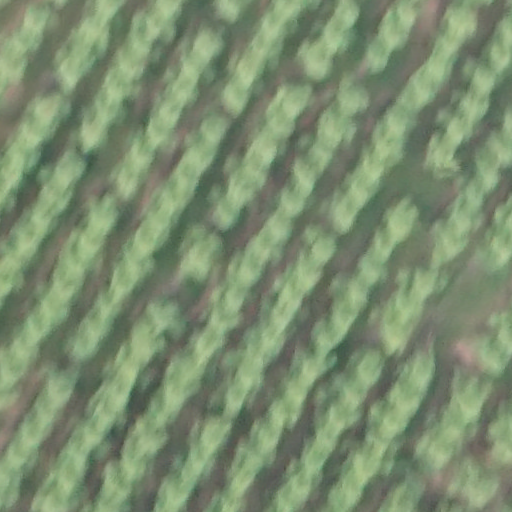eucalipto: (174, 232, 219, 278), (27, 93, 71, 137), (335, 278, 375, 320), (248, 420, 288, 462), (382, 197, 420, 241), (414, 435, 455, 475), (398, 263, 442, 300), (144, 301, 185, 340), (317, 108, 356, 149), (289, 49, 333, 85), (61, 232, 95, 278), (129, 323, 168, 363), (423, 139, 464, 177), (386, 292, 427, 330), (375, 13, 412, 55), (358, 428, 402, 463), (263, 398, 301, 438), (229, 442, 267, 482), (471, 344, 512, 381), (452, 382, 490, 421), (389, 376, 426, 416), (53, 46, 89, 87), (112, 40, 148, 80), (245, 326, 290, 358), (116, 444, 154, 481), (440, 3, 478, 40), (375, 313, 413, 350), (368, 124, 407, 160), (347, 349, 383, 388), (192, 27, 227, 67), (143, 391, 183, 426), (25, 396, 62, 433), (131, 418, 170, 453), (345, 448, 383, 483), (401, 353, 435, 392), (192, 417, 232, 450), (382, 104, 418, 140), (227, 356, 266, 389), (126, 25, 157, 66), (210, 285, 247, 319), (452, 183, 489, 217), (308, 318, 341, 356), (177, 45, 209, 84), (226, 169, 265, 201), (469, 155, 504, 190), (165, 73, 201, 107), (274, 84, 311, 117), (409, 67, 442, 104), (323, 402, 360, 435), (301, 135, 330, 176), (490, 407, 512, 461), (41, 179, 73, 216), (274, 483, 314, 512), (78, 118, 110, 154), (323, 483, 369, 508), (49, 264, 80, 301), (243, 140, 280, 171), (93, 91, 127, 124), (105, 66, 137, 101), (89, 198, 120, 234), (378, 404, 414, 435), (309, 27, 349, 54), (271, 185, 307, 215), (327, 197, 357, 233), (207, 1, 244, 30), (2, 440, 39, 469), (14, 418, 51, 447), (457, 91, 490, 123), (54, 152, 88, 183), (125, 140, 159, 171), (485, 314, 512, 353), (111, 163, 139, 200), (377, 487, 418, 512), (143, 12, 175, 44), (334, 380, 366, 412), (10, 25, 43, 56), (358, 253, 389, 286), (211, 196, 240, 231), (293, 354, 330, 381), (22, 4, 55, 34), (215, 90, 248, 120), (336, 86, 369, 116), (127, 231, 162, 259), (263, 215, 294, 246), (192, 328, 223, 359), (77, 17, 109, 47), (361, 38, 391, 70), (231, 259, 263, 289), (91, 400, 119, 434), (288, 466, 322, 494), (278, 377, 313, 404), (245, 33, 284, 57), (370, 227, 401, 257), (244, 232, 273, 264), (387, 1, 421, 28), (103, 383, 133, 413), (360, 151, 390, 181), (294, 261, 324, 291), (466, 67, 497, 96), (142, 185, 174, 213), (430, 29, 462, 57), (105, 469, 138, 496), (83, 1, 129, 20), (420, 50, 448, 81), (440, 116, 471, 144), (145, 115, 172, 147), (90, 292, 122, 319), (135, 216, 167, 243), (348, 175, 375, 207), (488, 132, 512, 168), (262, 111, 295, 137), (27, 205, 55, 235), (292, 161, 316, 196), (309, 235, 337, 265), (1, 51, 28, 81), (73, 425, 103, 452), (197, 120, 228, 146), (229, 63, 260, 89), (80, 314, 112, 339), (482, 46, 510, 74), (43, 295, 72, 322), (78, 228, 104, 258), (327, 1, 360, 24), (155, 98, 181, 127), (25, 315, 50, 344), (496, 16, 512, 61), (18, 125, 44, 151), (182, 146, 214, 167), (71, 339, 99, 362), (45, 382, 74, 404), (150, 1, 184, 19), (177, 160, 201, 184)
